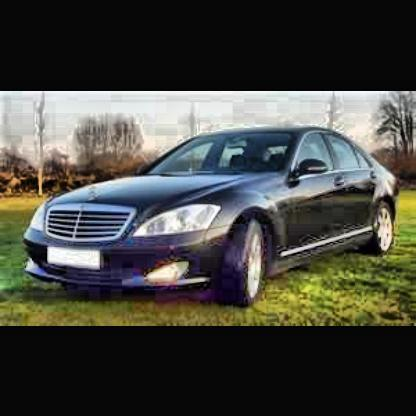Mercedes-Benz S-Class Sedan 2012: (21, 122, 405, 316)
